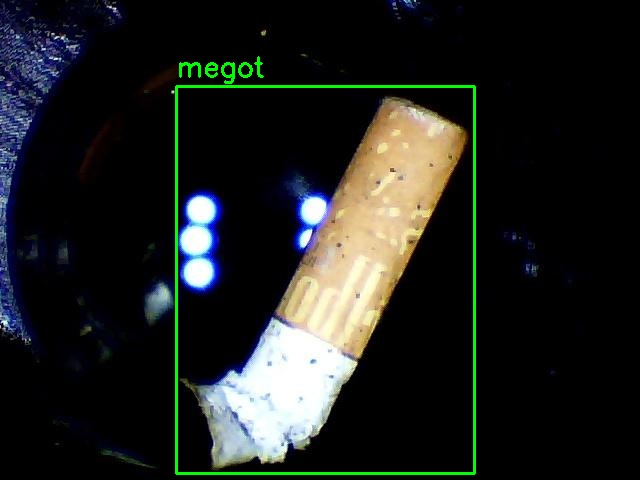megot: (176, 86, 474, 473)
